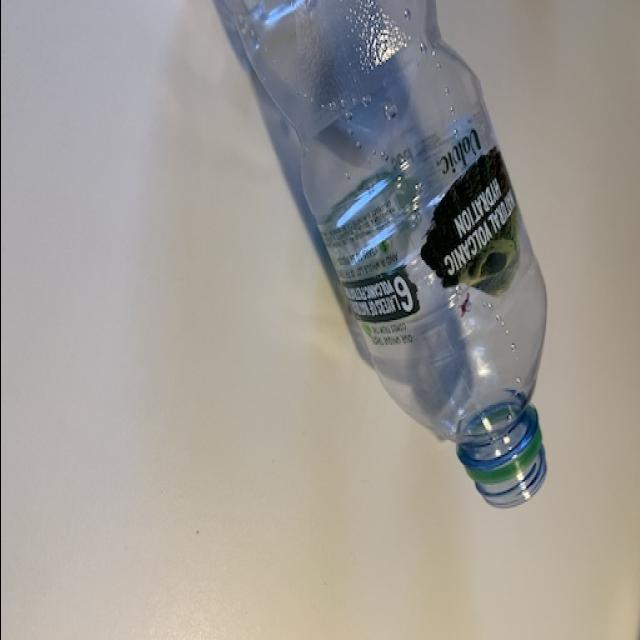litter: (217, 0, 554, 518)
